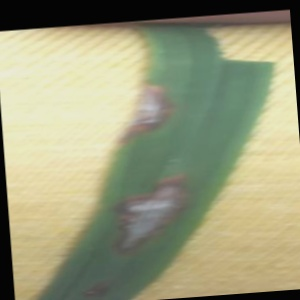Brown_Spot: (106, 163, 209, 255), (115, 67, 186, 149)
